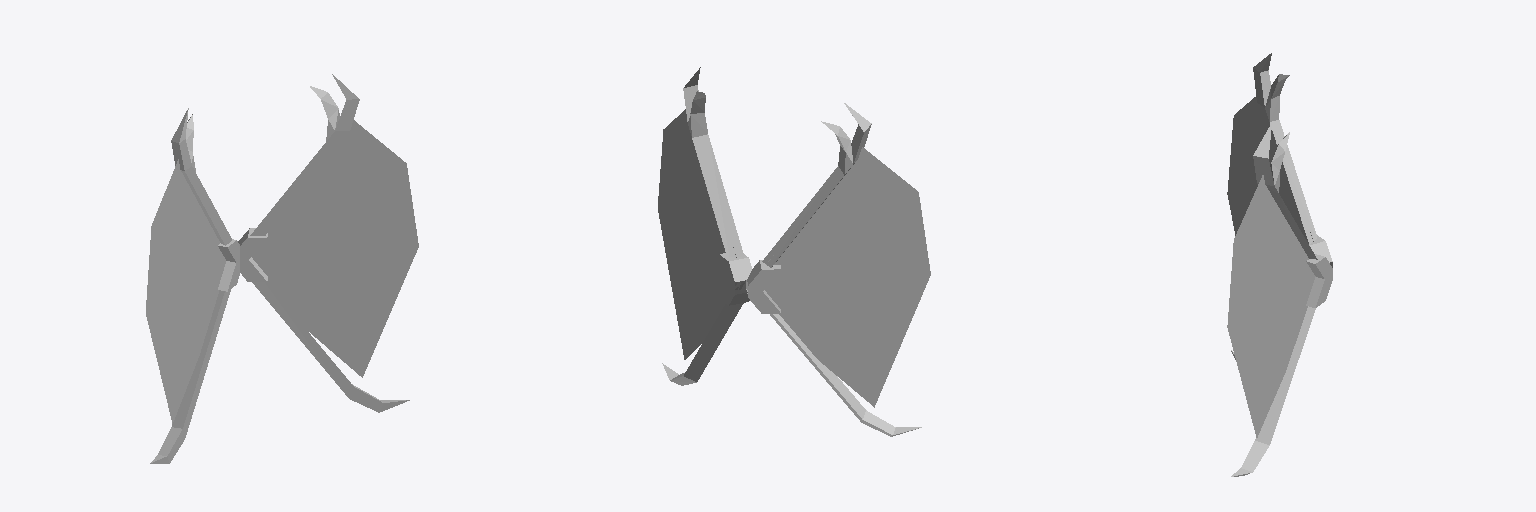
Rendered from 2_mi_cape_10.obj.
3 views of the same model, side by side, from view 1: azimuth 30°, elevation 25°; view 2: azimuth 150°, elevation 25°; view 3: azimuth 270°, elevation 25° (orthographic).
Parts seen in each view (by area): view 1: defaultobject; view 2: defaultobject; view 3: defaultobject.
Part boxes in pixels (bbox=[...]): defaultobject: bbox=[146, 74, 418, 463]; defaultobject: bbox=[658, 67, 930, 436]; defaultobject: bbox=[1227, 53, 1332, 476].
Bounding box in the file's own units: 38.96 × 46.03 × 13.